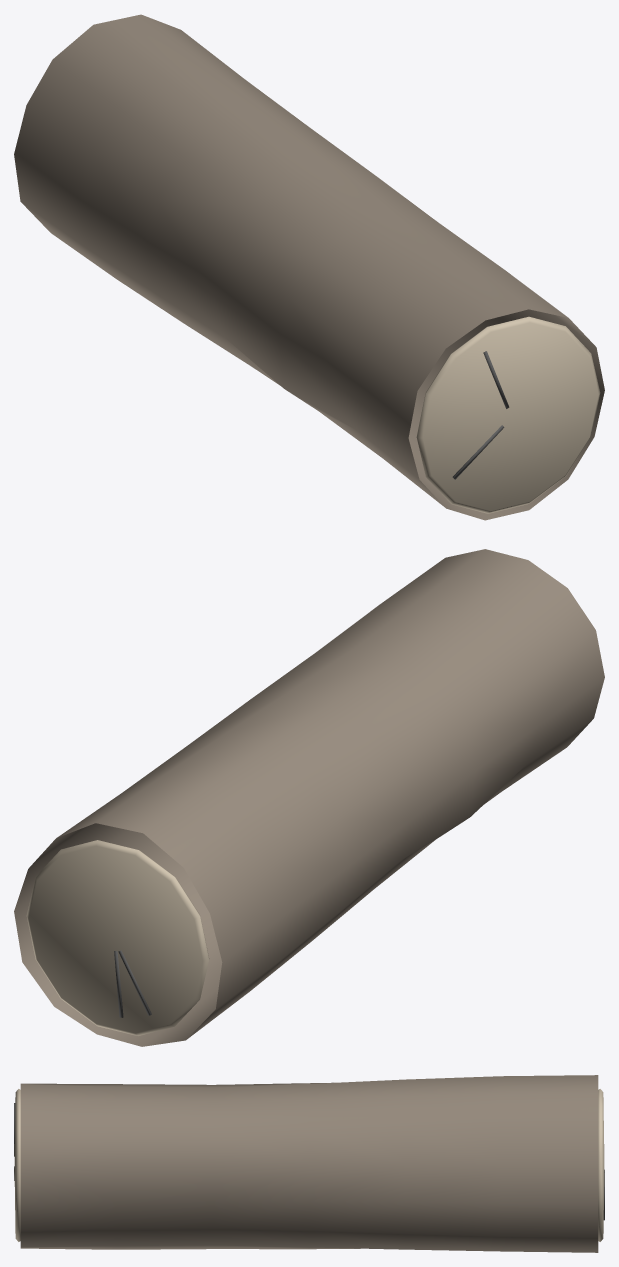
File: wp_log_1.glb
The picture shows the model from 3 angles, top to bottom: view 1: azimuth 30°, elevation 25°; view 2: azimuth 150°, elevation 25°; view 3: azimuth 270°, elevation 25°; orthographic projection. The views are drawn at different scales.
Visible parts, largest first — view 1: wp_log_1; view 2: wp_log_1; view 3: wp_log_1.
Part boxes in pixels (bbox=[...]): wp_log_1: bbox=[14, 14, 604, 520]; wp_log_1: bbox=[14, 549, 604, 1046]; wp_log_1: bbox=[14, 1075, 604, 1252].
Size of the model in its own units: 0.1706 by 0.1675 by 0.563.
